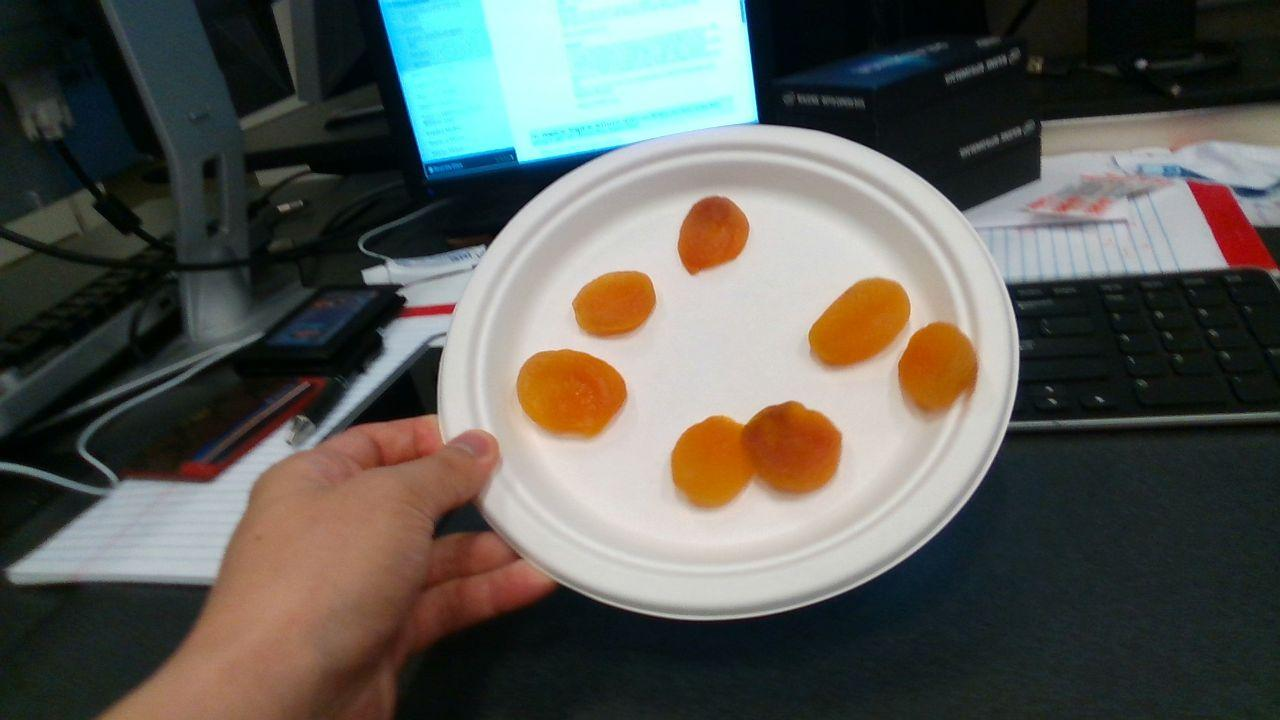apricot: (517, 349, 628, 434), (745, 401, 841, 491), (810, 279, 910, 363), (671, 416, 754, 505), (898, 323, 976, 411), (679, 196, 750, 275), (573, 272, 655, 335)
